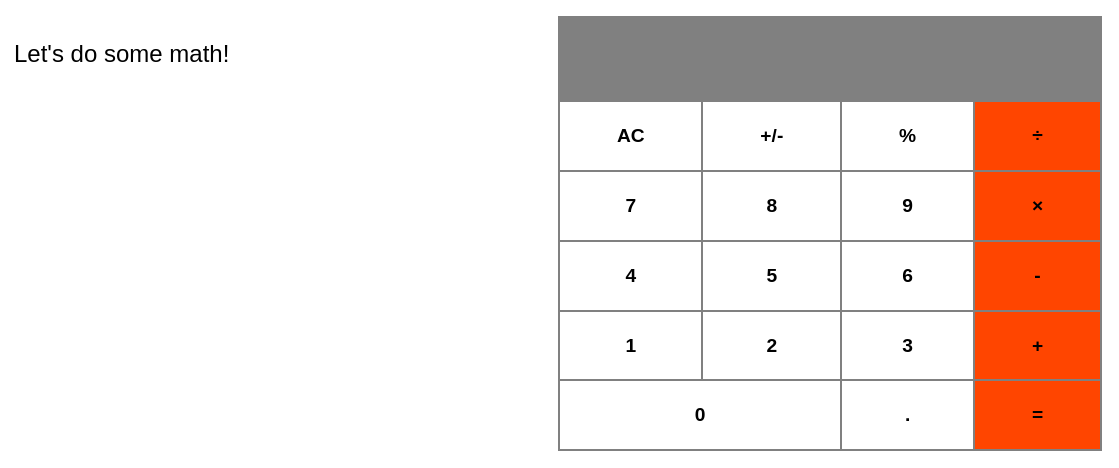
Test: Calculator Component › test entering numbers
Click the button "8" at (772, 206), box 702,171 -> 841,241
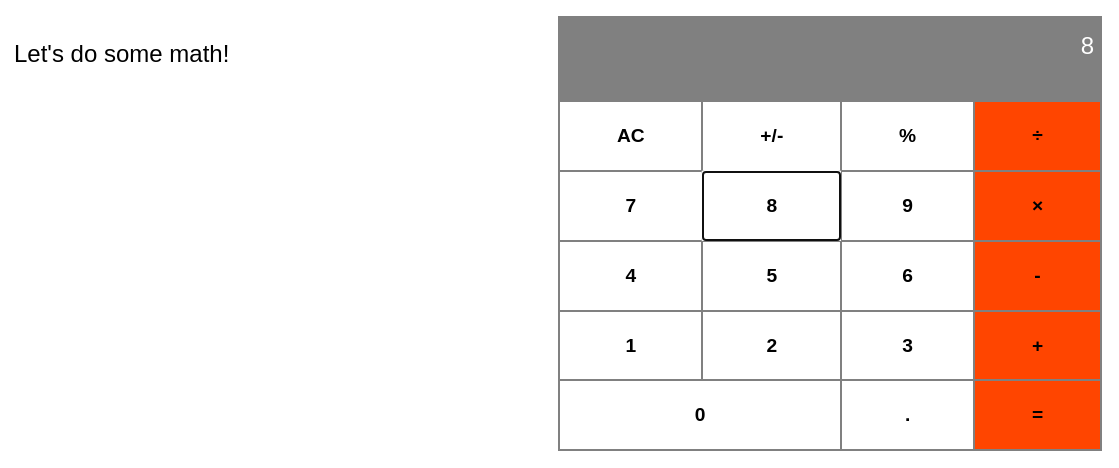
Click the button "7" at (631, 206), box 559,171 -> 702,241
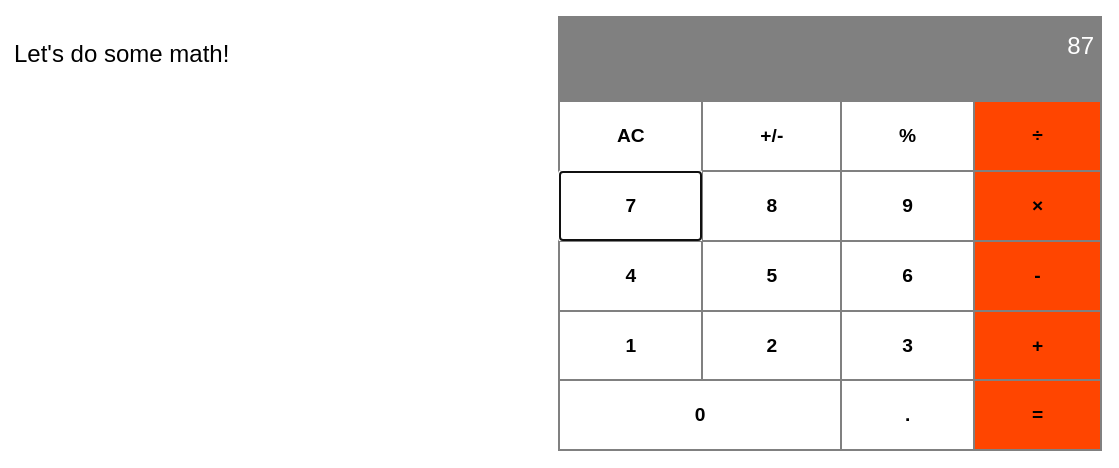
Now the text "87" is shown, box 558,16 -> 1102,100
